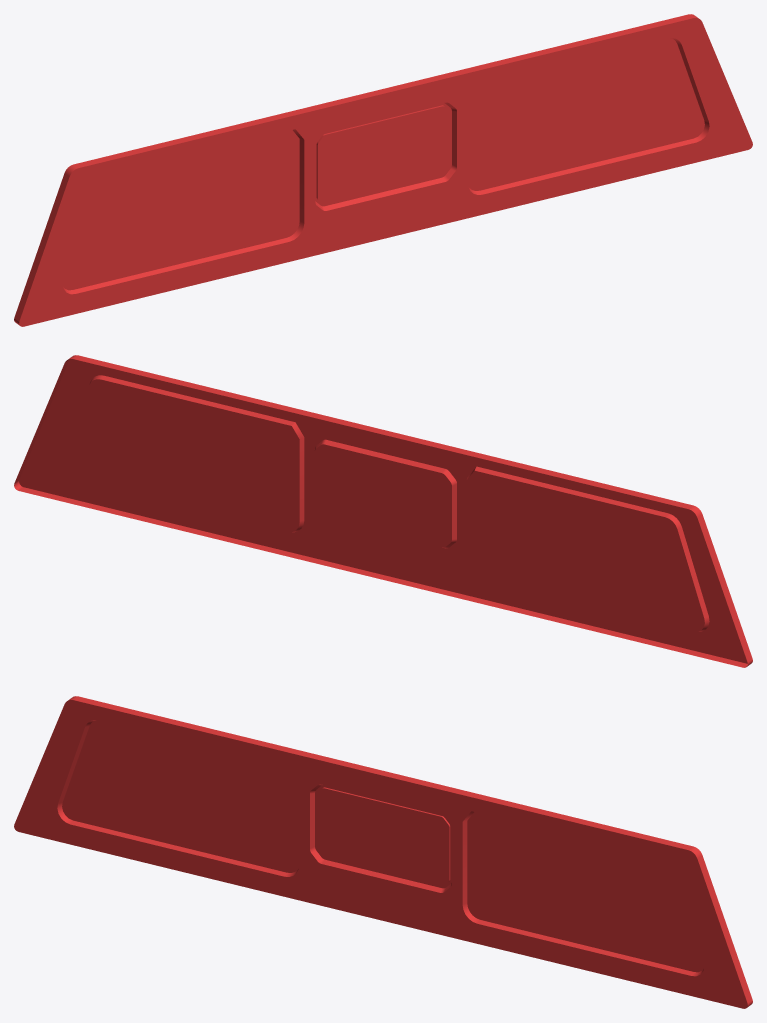
The model's file is BarScreen_Mesh.fbx.
3 views of the same model, one above another, from view 1: azimuth 30°, elevation 25°; view 2: azimuth 150°, elevation 25°; view 3: azimuth 330°, elevation 25° (orthographic).
Parts seen in each view (by area): view 1: BarScreen_Mesh; view 2: BarScreen_Mesh; view 3: BarScreen_Mesh.
Part boxes in pixels (x1=…): BarScreen_Mesh: x1=14, y1=14, x2=752, y2=326; BarScreen_Mesh: x1=14, y1=355, x2=752, y2=667; BarScreen_Mesh: x1=14, y1=696, x2=752, y2=1008.
Bounding box in the file's own units: 336 × 63.59 × 4.04.
